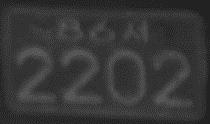0: (105, 49, 146, 108)
2: (16, 45, 58, 107), (60, 47, 103, 107), (152, 48, 193, 108)
6: (87, 15, 116, 44)
8: (56, 15, 83, 43)
서: (120, 15, 148, 46)
